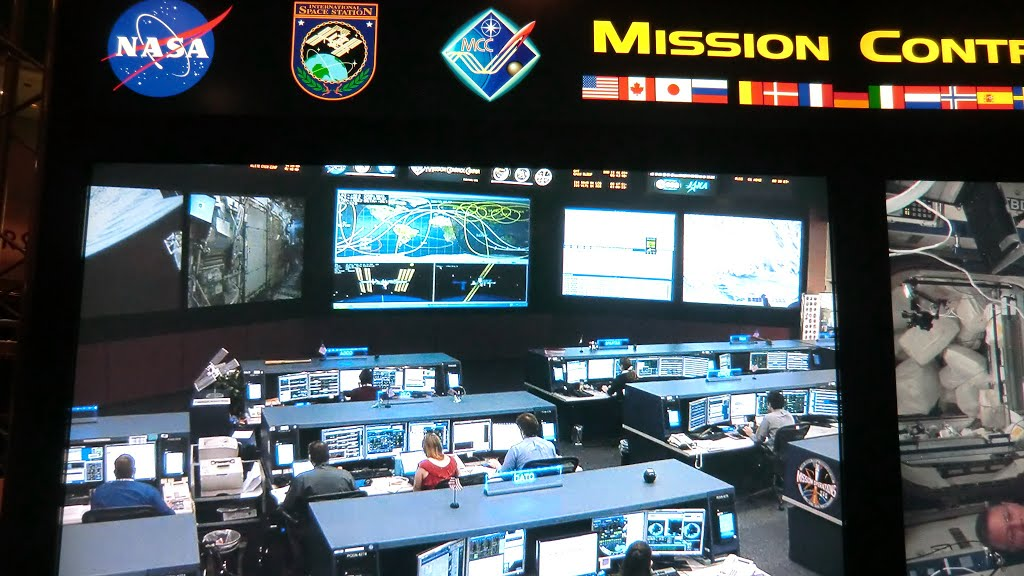NASA: (97, 3, 236, 107)
